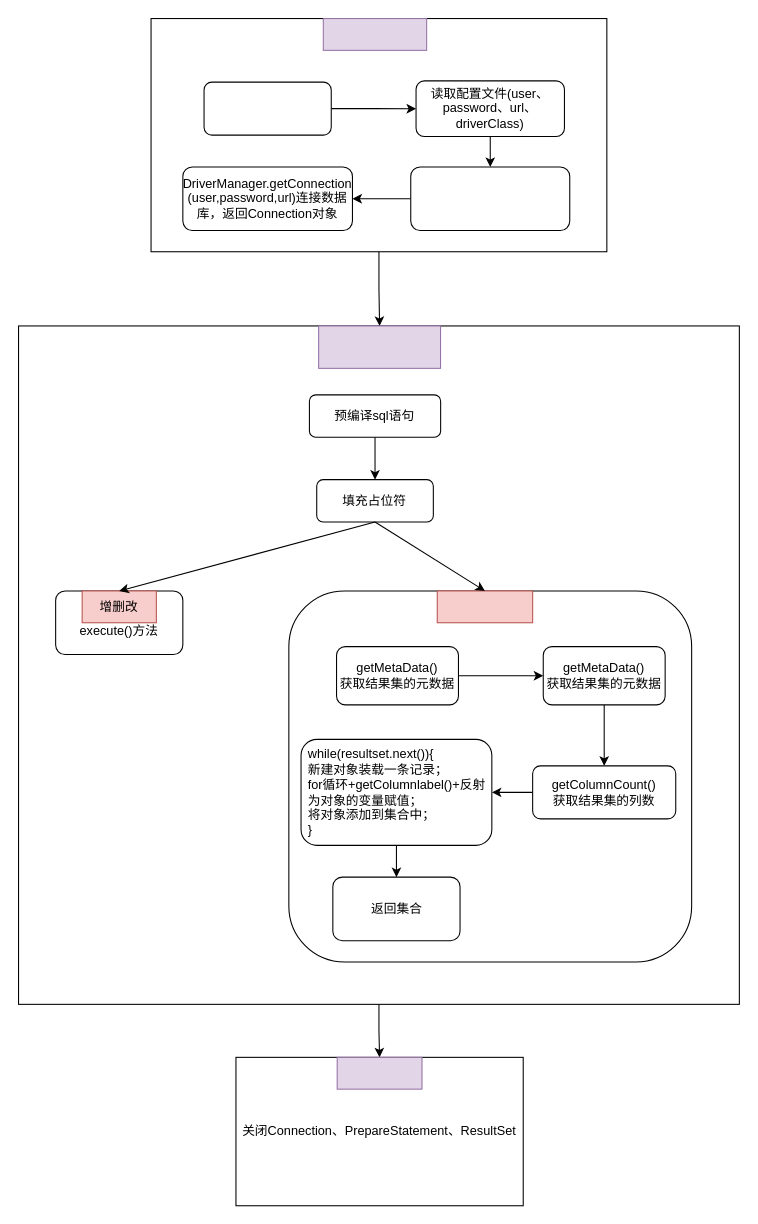
Image size: 758x1224. Some labels were removed from this diagram. The shapes that lost their labels are listed below. From the top down, each one's centre as x and y in pixels, then its label:
point (374, 33): 数据库连接
point (267, 108): 编写配置文件（user、password、url、driverClass）
point (490, 198): Class.forname(driverClass) 内部生成并注册驱动
point (379, 346): 操作数据库
point (484, 606): 查询
point (379, 1072): 关闭资源
